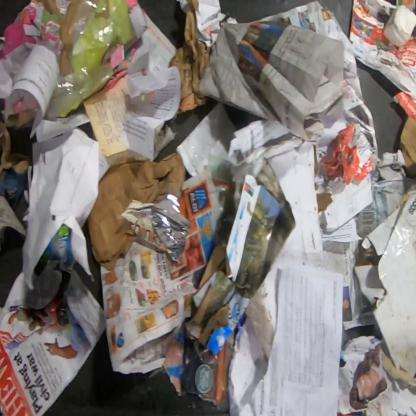cardboard: (354, 186, 415, 388), (349, 0, 415, 121), (184, 247, 252, 357), (180, 332, 235, 406), (0, 0, 64, 61), (399, 114, 415, 183), (129, 2, 149, 40)
soft_plastic: (45, 0, 139, 118), (120, 193, 191, 264)
